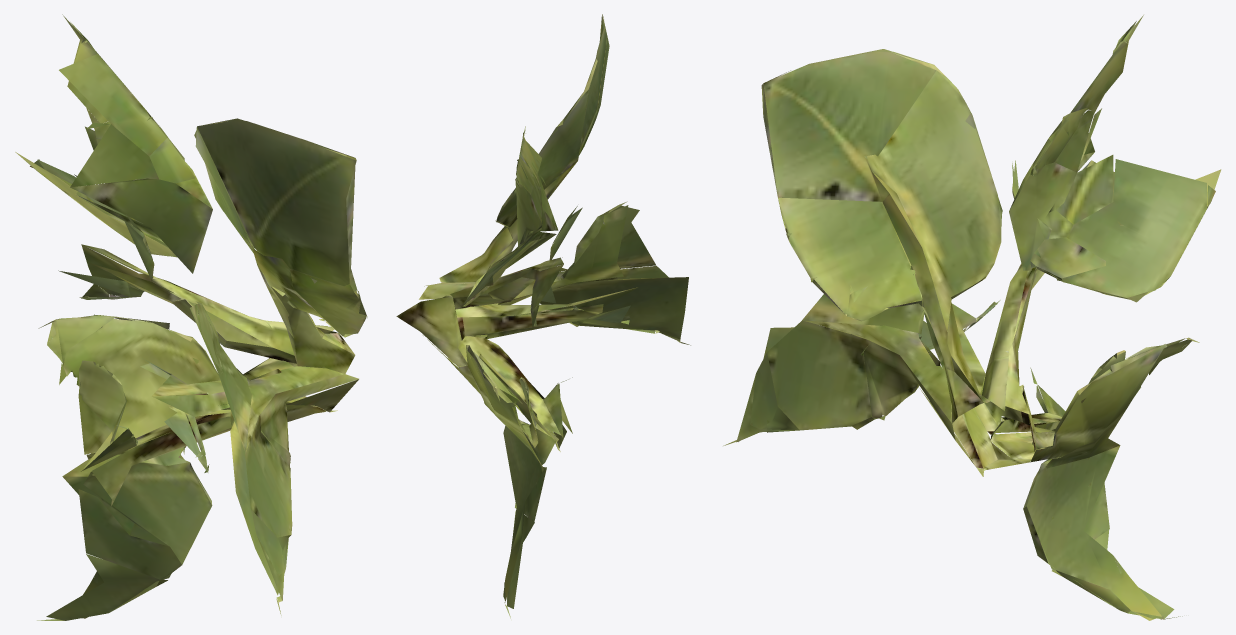
Rendered from turtle-s02-plant-stem.glb.
3 views of the same model, side by side, from view 1: azimuth 30°, elevation 25°; view 2: azimuth 150°, elevation 25°; view 3: azimuth 270°, elevation 25° (orthographic). The views are drawn at different scales.
Parts seen in each view (by area): view 1: Mesh_0; view 2: Mesh_0; view 3: Mesh_0.
Boxes of the visible parts, x1,y1,x2,y2 form: Mesh_0: (15, 14, 367, 620); Mesh_0: (396, 14, 690, 618); Mesh_0: (723, 15, 1221, 620).
Size of the model in its own units: 0.0436 by 0.1028 by 0.0772.
Materials: 1 (1 with a texture image).
